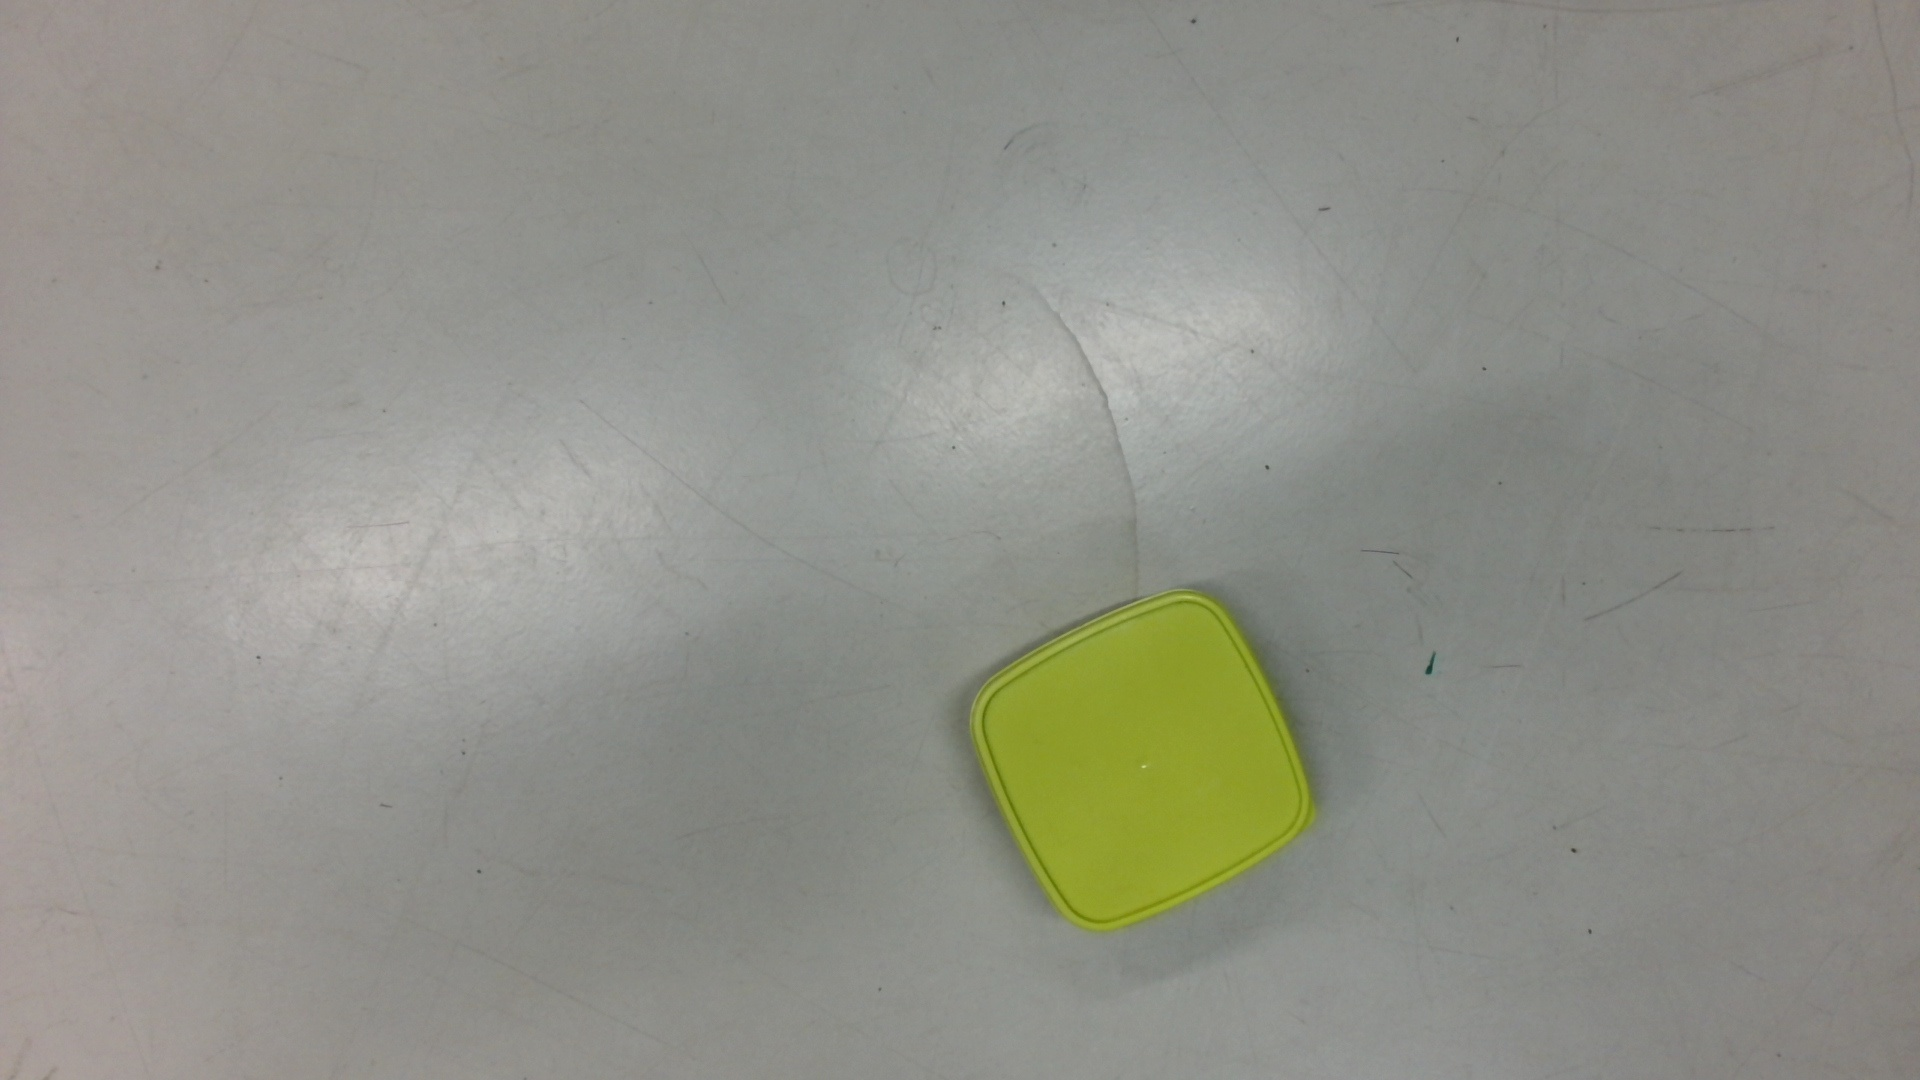Box: (965, 582, 1323, 938)
